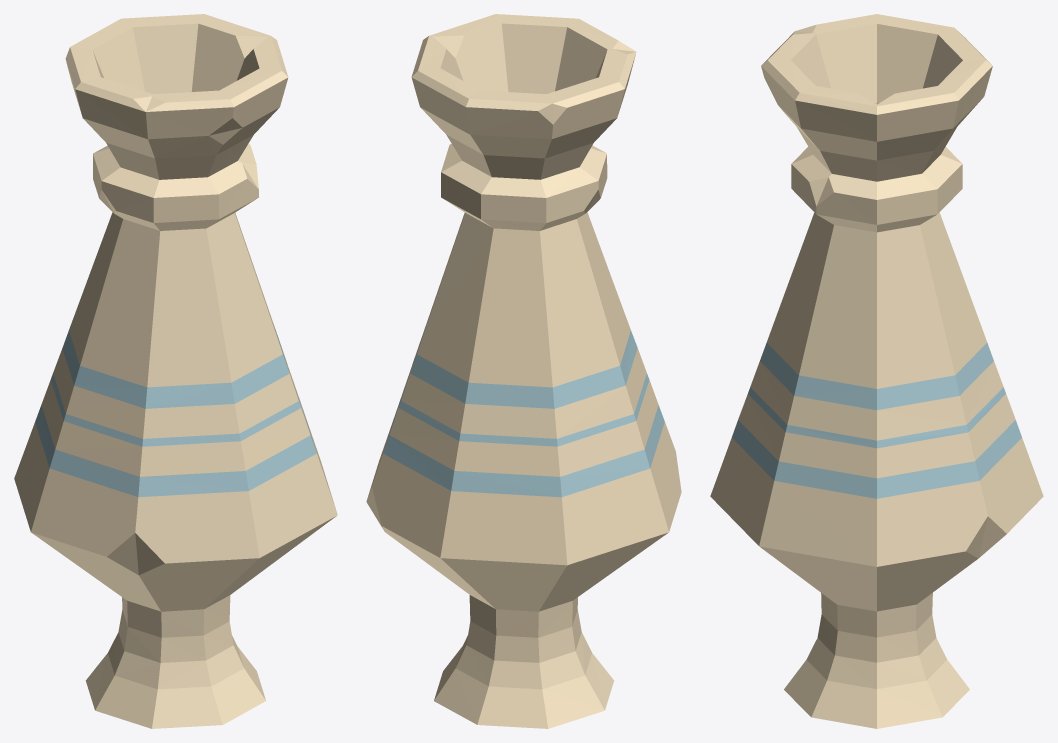
Rendered from SFI_Vessel_006.fbx.
The picture shows the model from 3 angles, left to right: view 1: azimuth 30°, elevation 25°; view 2: azimuth 150°, elevation 25°; view 3: azimuth 270°, elevation 25°; orthographic projection.
Parts seen in each view (by area): view 1: SFI_Vessel_006; view 2: SFI_Vessel_006; view 3: SFI_Vessel_006.
Boxes of the visible parts, bbox=[...] form: SFI_Vessel_006: bbox=[14, 14, 337, 728]; SFI_Vessel_006: bbox=[366, 14, 681, 728]; SFI_Vessel_006: bbox=[710, 14, 1043, 728].
Bounding box in the file's own units: 42.79 × 89.06 × 42.75.
